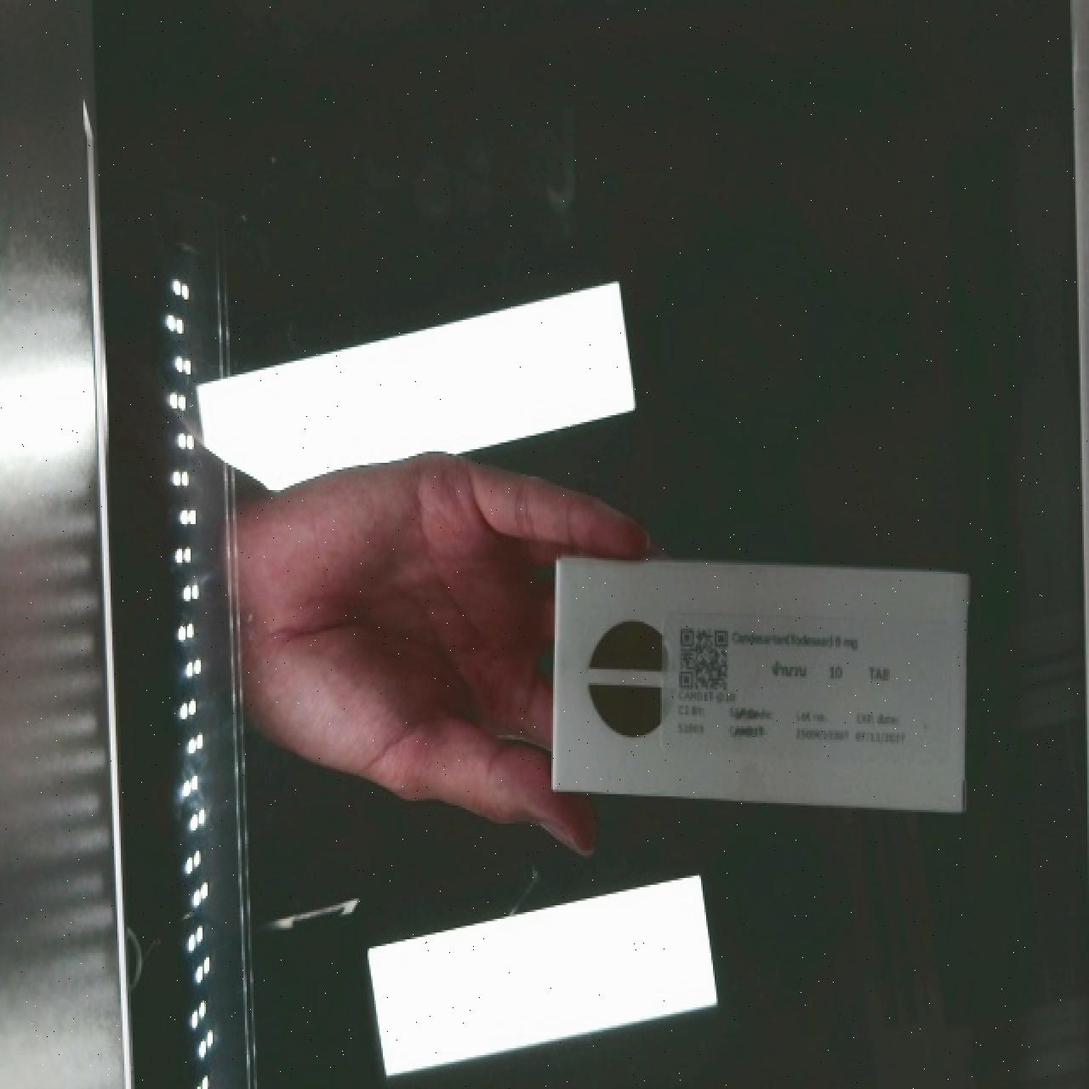qr_code: (665, 609, 742, 714)
